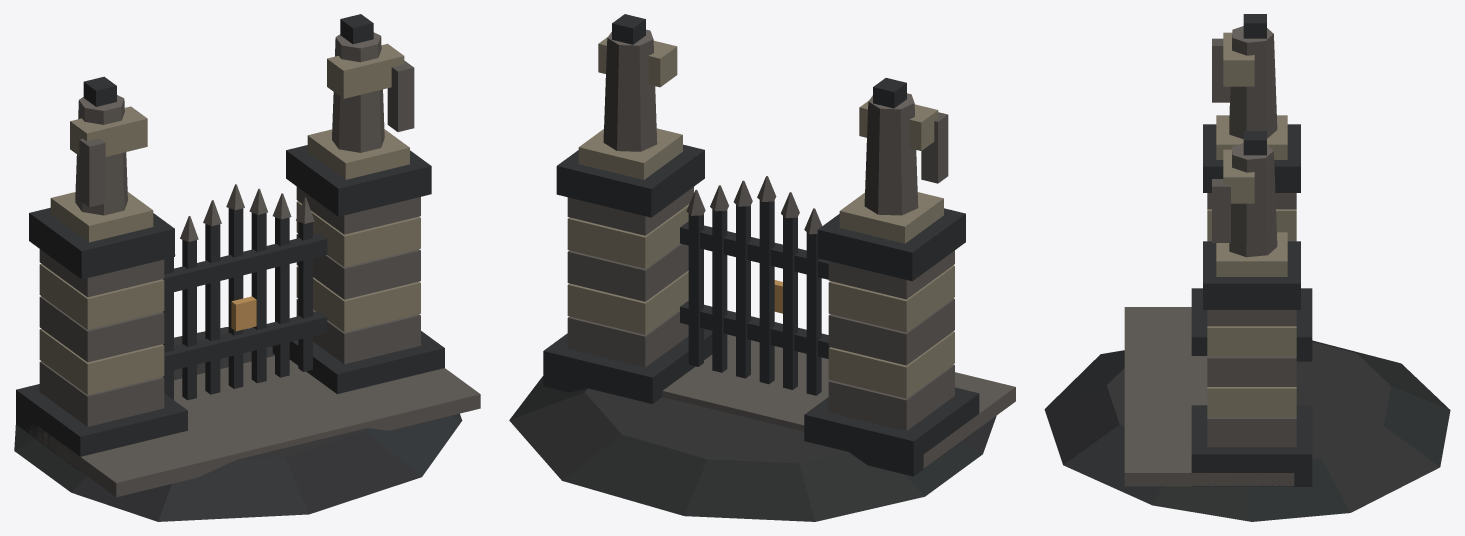
Rendered from gates.glb.
3 renders of one model, left to right at view 1: azimuth 30°, elevation 25°; view 2: azimuth 150°, elevation 25°; view 3: azimuth 270°, elevation 25°, orthographic. The views are drawn at different scales.
Visible parts, largest first — view 1: The Gates of Barovia · atlas landmark; view 2: The Gates of Barovia · atlas landmark; view 3: The Gates of Barovia · atlas landmark.
Boxes of the visible parts, bbox=[...] form: The Gates of Barovia · atlas landmark: bbox=[14, 14, 480, 521]; The Gates of Barovia · atlas landmark: bbox=[509, 14, 1015, 521]; The Gates of Barovia · atlas landmark: bbox=[1044, 14, 1450, 521].
Bounding box in the file's own units: 1.95 × 1.77 × 1.82.
